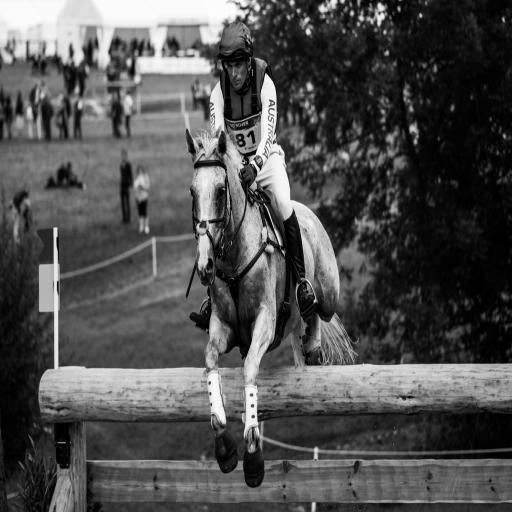horse: (182, 123, 361, 488)
